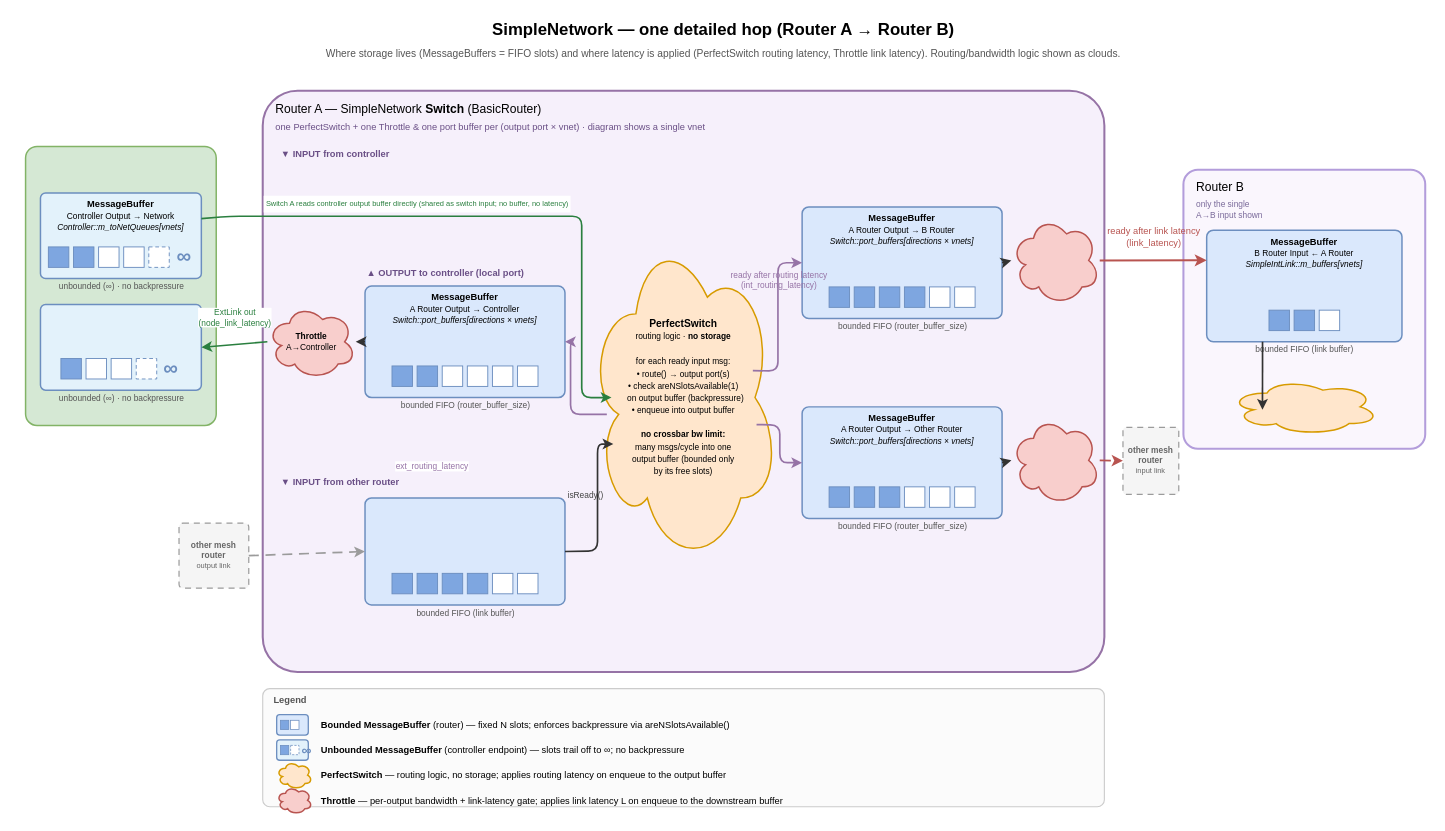
The diagram is 1445 pixels wide and 831 high, and some of its shapes have lost their labels. The box of each missing label's shape, as (x1, y1, x2, y2) in pixels:
Controller (network endpoint): (24, 145, 217, 426)
MessageBuffer A Router Input ← Other Router SimpleIntLink::m_buffers[vnets]: (364, 497, 565, 605)
MessageBuffer Controller Input ← Network Controller::m_fromNetQueues[vnets]: (39, 303, 202, 390)
PerfectSwitch B consumes ready msg: (1229, 378, 1379, 435)
Throttle A→B bw = link_bandwidth_factor 1 msg/cy/vnet needs free downstream slot: (1010, 215, 1100, 305)
Throttle A→other same per-output gate needs free dst slot: (1010, 415, 1100, 505)
